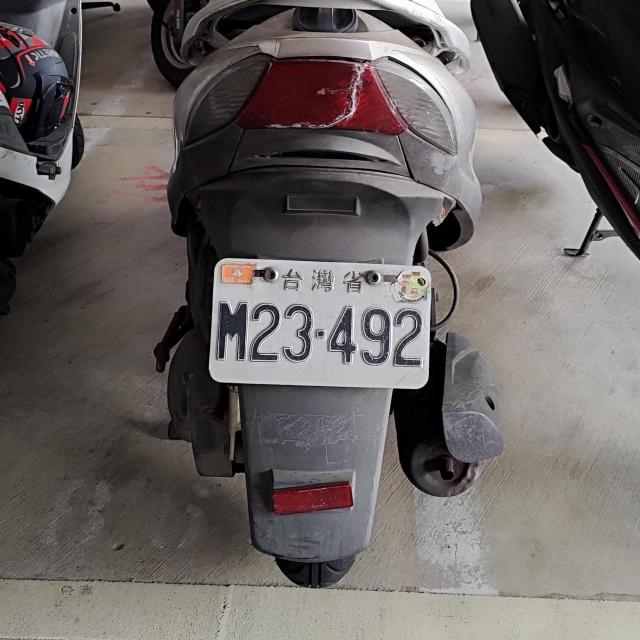W: (205, 257, 431, 386)
